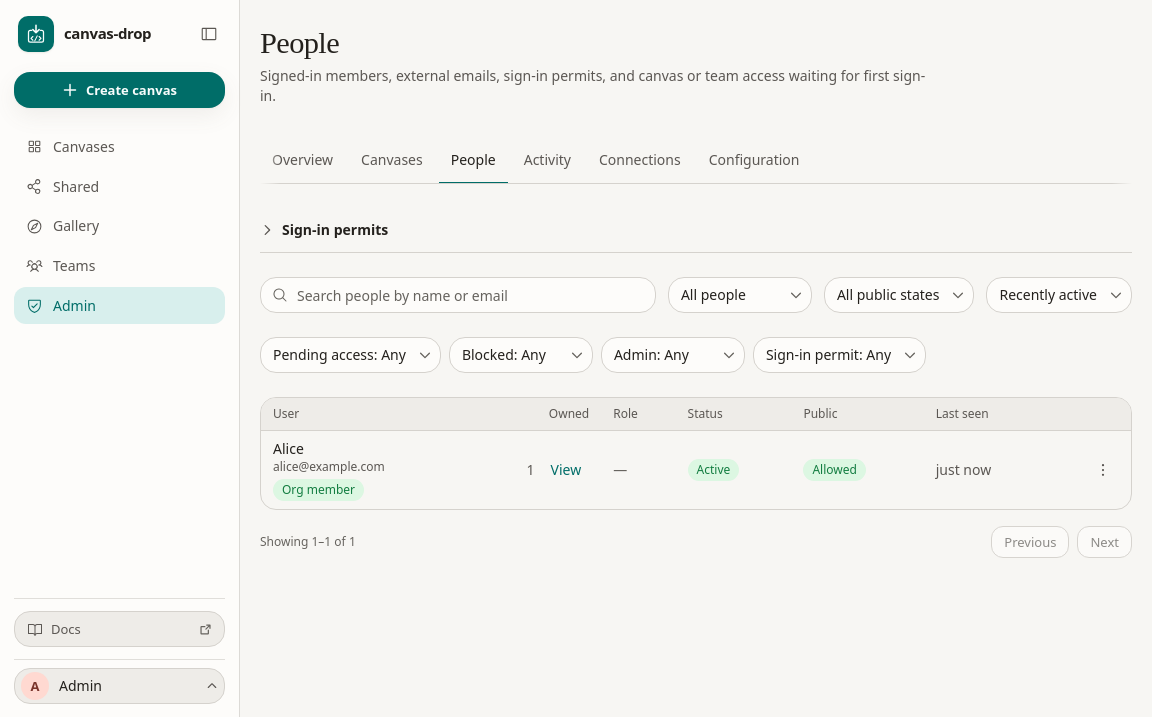
it: admin dashboard › links a user's canvas count to that user's filtered Canvases tab
Step 1. Click the button with aria-label "View canvases involving alice@example.com" → (566, 470), box [543,456,589,484]
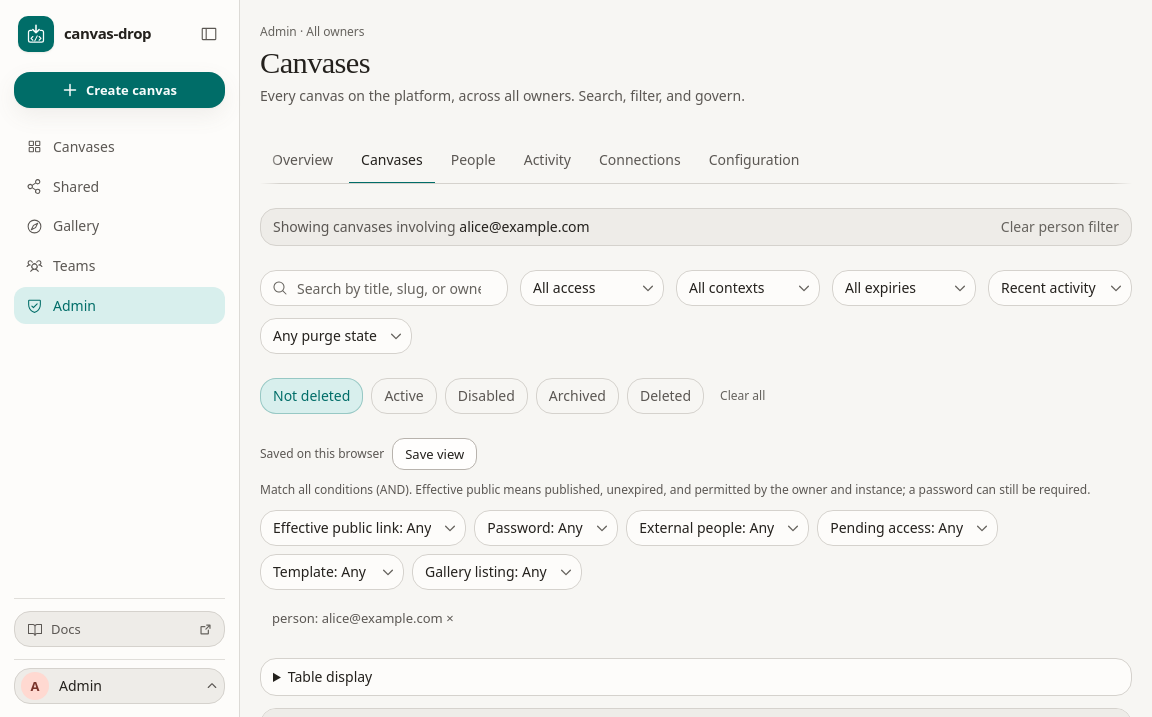
Check: the heading "Canvases" is shown, box [260,46,370,80]
Check: the text "Showing canvases involving alice@example.com" is shown, box [273,217,590,237]
